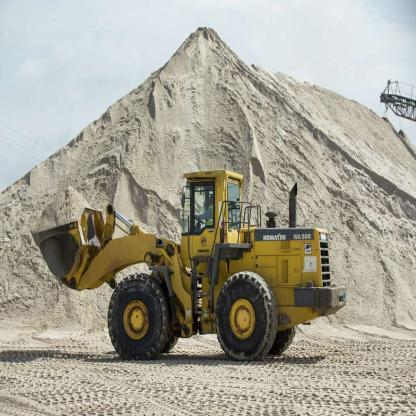bull_dozer/loader/grader: (33, 147, 346, 367)
